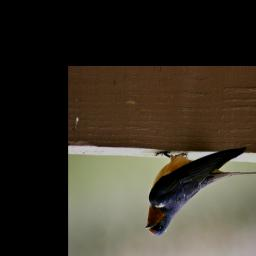Swallow: (144, 146, 256, 238)
